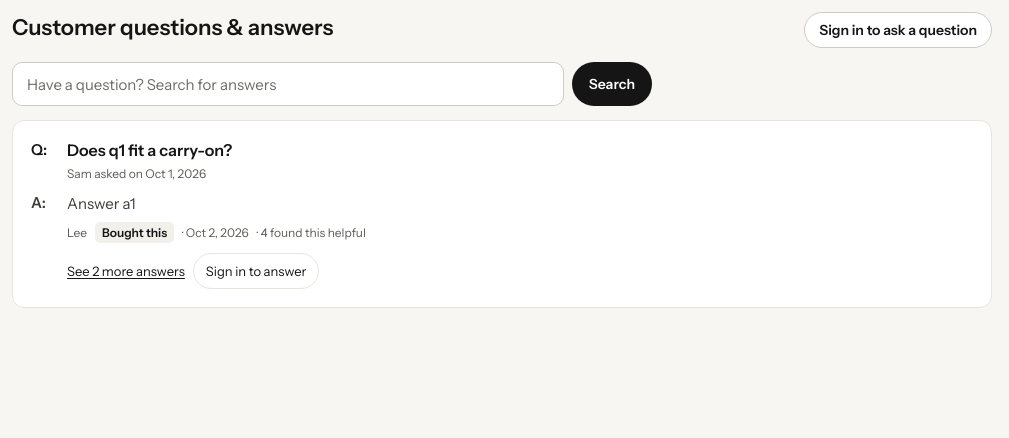
Test: shows the top answer, a verified mark and the rest on request
expect the text "Answer a1" is shown: met, box [67,194,136,213]
expect the text "Bought this" is shown: met, box [95,222,174,243]
Click the button "See 2 more answers" at (126,271), box [67,253,185,289]
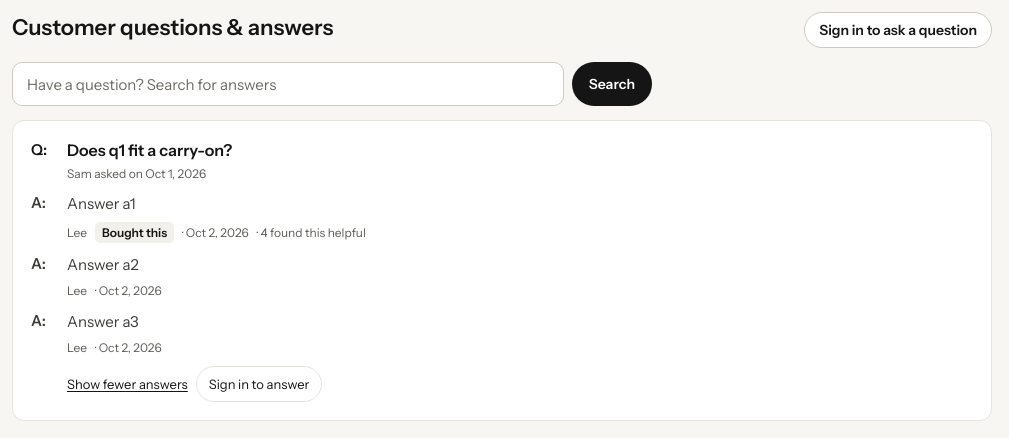
expect the text "Answer a3" is shown: met, box [67,312,139,331]
